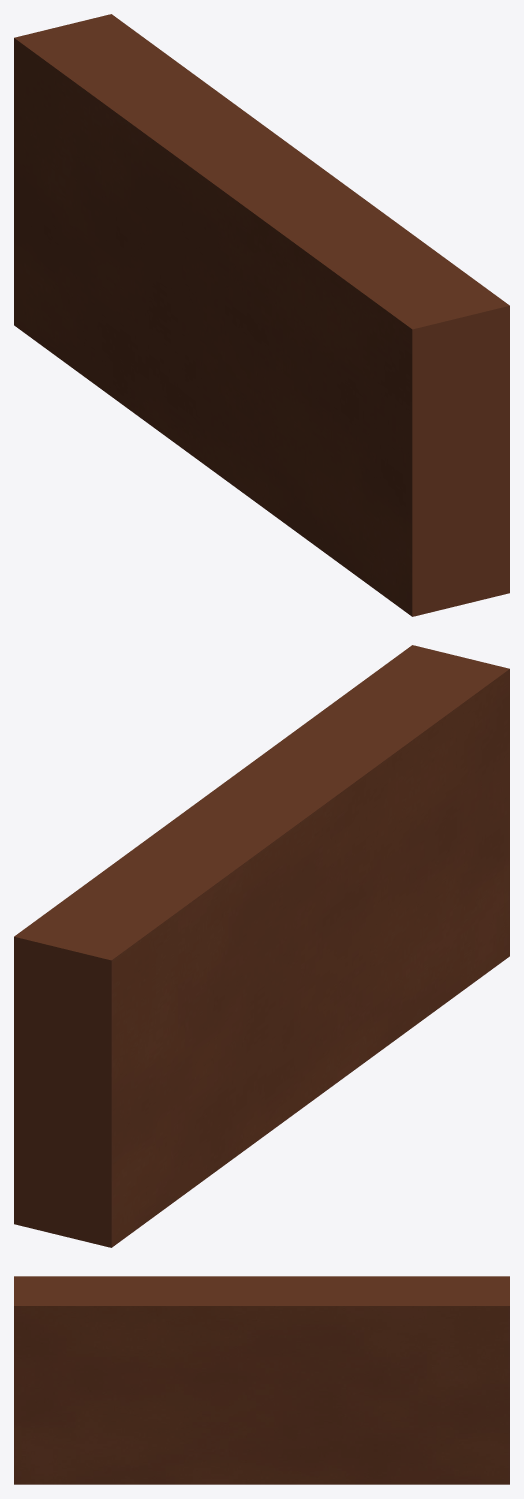
The model's file is leather_wall.glb.
3 views of the same model, one above another, from view 1: azimuth 30°, elevation 25°; view 2: azimuth 150°, elevation 25°; view 3: azimuth 270°, elevation 25° (orthographic). The views are drawn at different scales.
Visible parts, largest first — view 1: leather_wall; view 2: leather_wall; view 3: leather_wall.
Part boxes in pixels (bbox=[...]): leather_wall: bbox=[14, 14, 509, 616]; leather_wall: bbox=[14, 645, 509, 1247]; leather_wall: bbox=[14, 1276, 509, 1484].
Size of the model in its own units: 4.1 by 11.55 by 29.02.
Materials: 1 (1 with a texture image).
